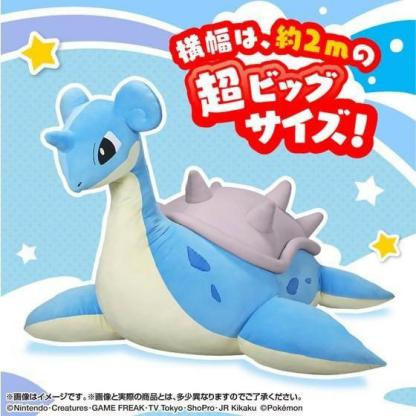Lapras: (25, 84, 400, 379)
